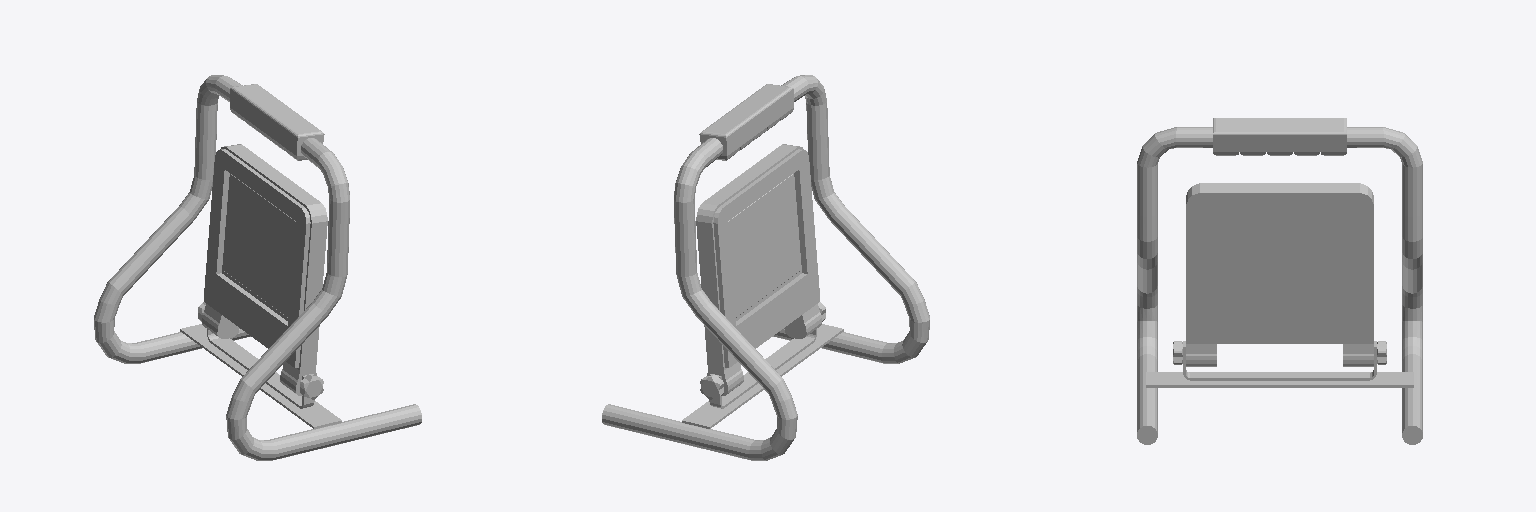
File: WorkLight.obj
3 renders of one model, left to right at view 1: azimuth 30°, elevation 25°; view 2: azimuth 150°, elevation 25°; view 3: azimuth 270°, elevation 25°, orthographic.
Parts seen in each view (by area): view 1: Cube.2; view 2: Cube.2; view 3: Cube.2.
Part boxes in pixels (x1,y1,x2,y2): Cube.2: (94, 75, 421, 460); Cube.2: (602, 75, 929, 460); Cube.2: (1137, 118, 1422, 444).
Size of the model in its own units: 163 by 235 by 214.